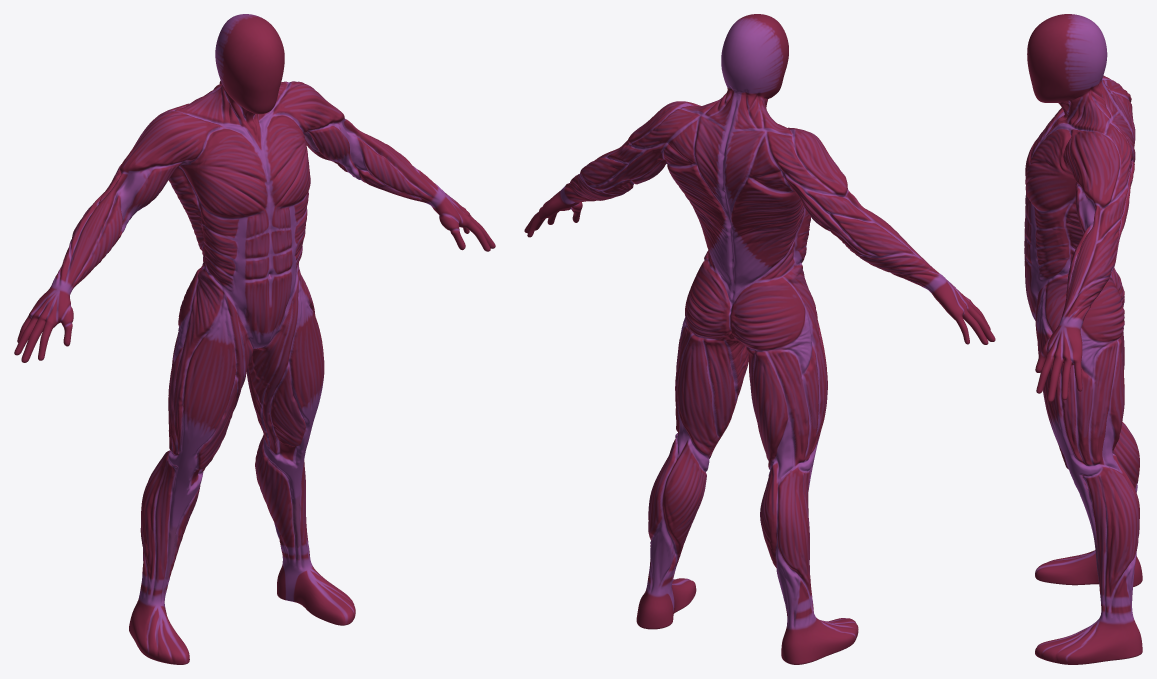
File: Muscle_Male.fbx
3 views of the same model, side by side, from view 1: azimuth 30°, elevation 25°; view 2: azimuth 150°, elevation 25°; view 3: azimuth 270°, elevation 25° (orthographic). The views are drawn at different scales.
Parts seen in each view (by area): view 1: BaseMesh_Low_Res_Detailed_Male_Female; view 2: BaseMesh_Low_Res_Detailed_Male_Female; view 3: BaseMesh_Low_Res_Detailed_Male_Female.
Part boxes in pixels (<box>): BaseMesh_Low_Res_Detailed_Male_Female: <box>14,14,495,664</box>; BaseMesh_Low_Res_Detailed_Male_Female: <box>524,14,995,664</box>; BaseMesh_Low_Res_Detailed_Male_Female: <box>1024,14,1142,664</box>.
Bounding box in the file's own units: 1.43 × 1.78 × 0.3184.
